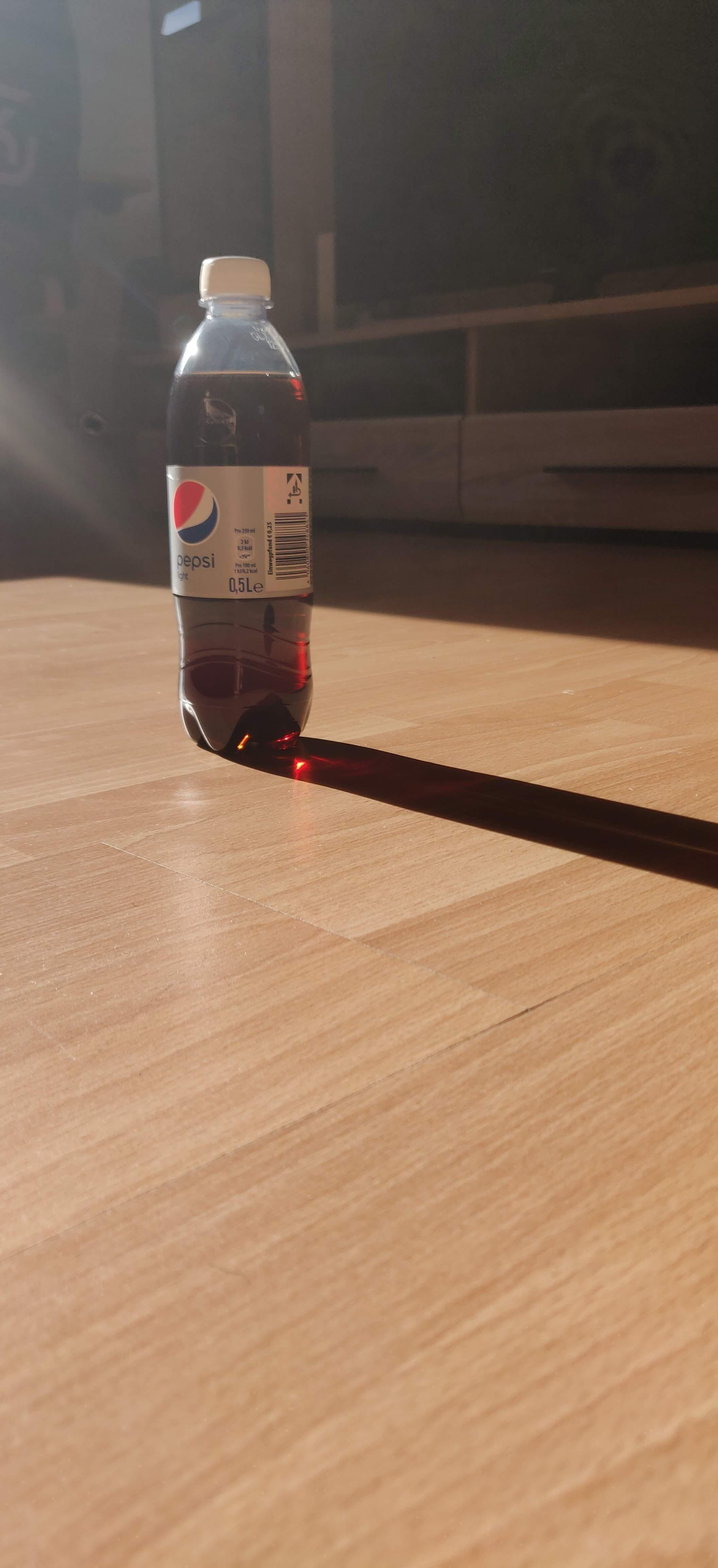bottle-plastic: (162, 250, 324, 759)
